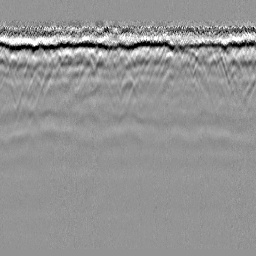cavity: (118, 73, 137, 98)
